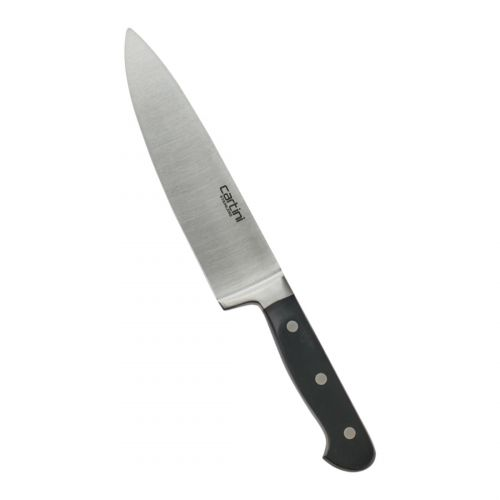knife: (125, 27, 376, 472)
